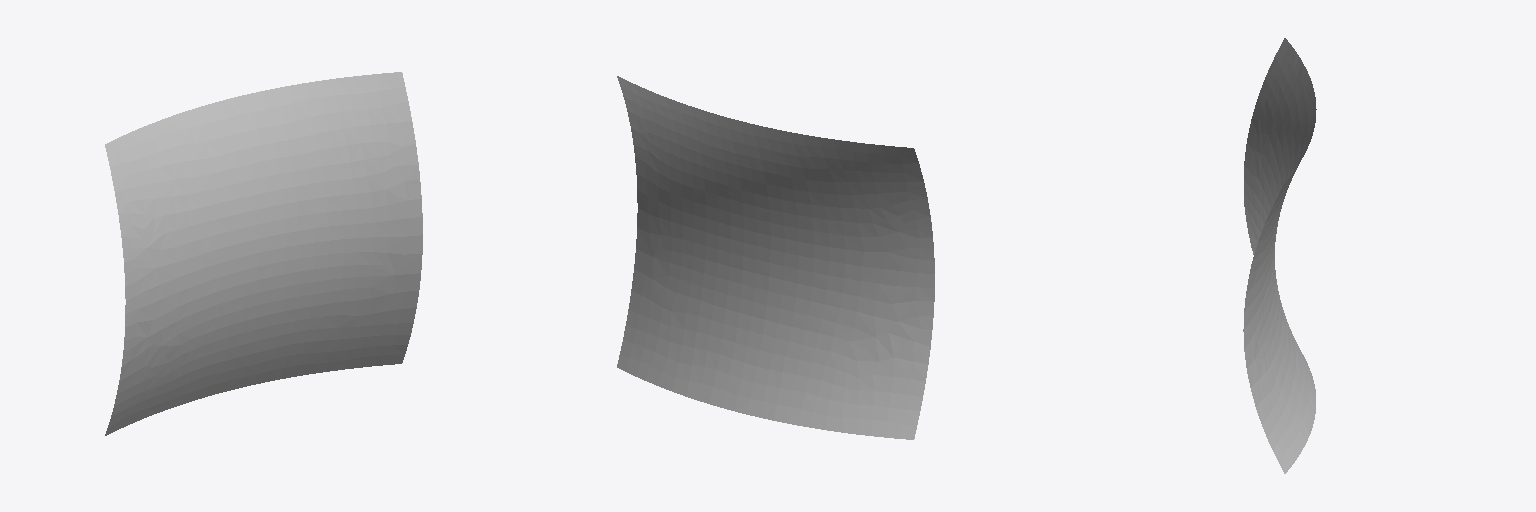
File: Coarse_NegS_Remeshed1.obj
3 renders of one model, left to right at view 1: azimuth 30°, elevation 25°; view 2: azimuth 150°, elevation 25°; view 3: azimuth 270°, elevation 25°, orthographic.
Size of the model in its own units: 1.84 by 1.72 by 0.391.